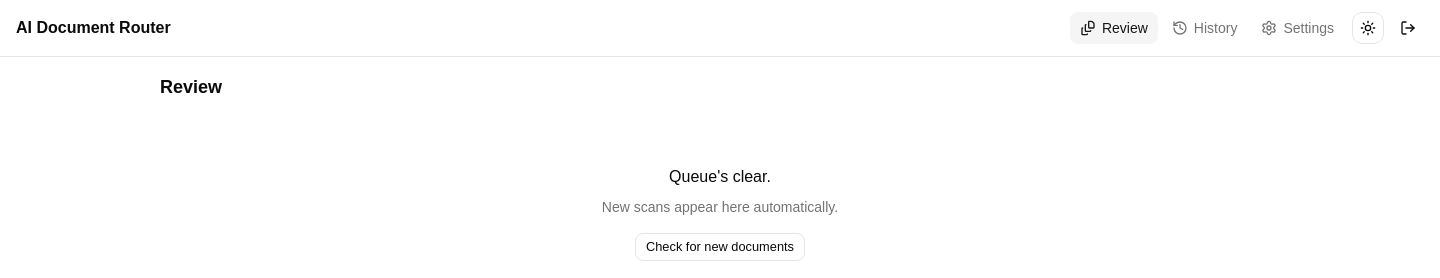
Scenario: authentication gate › signs out back to the sign-in screen
Expected: the heading "Review" is shown, [160,73,222,101]
Click the button named "sign out owner@example.com".
click(1408, 28)  # box [1392,12,1424,44]
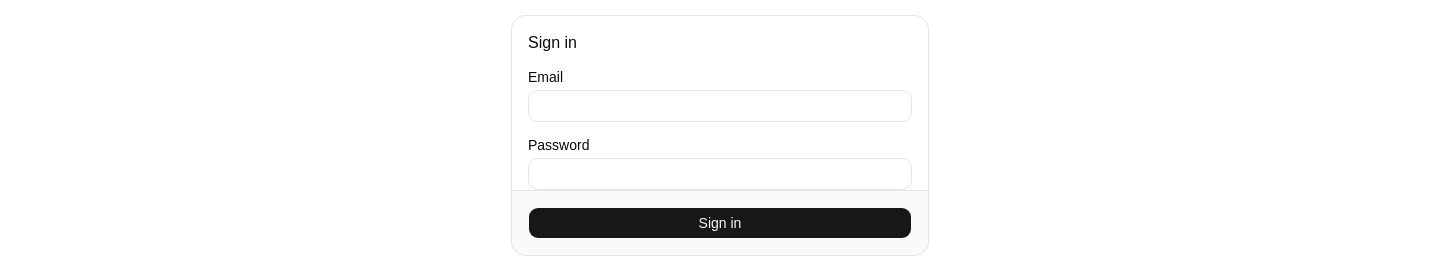
Expected: the button "Sign in" is shown, [528,207,912,239]
